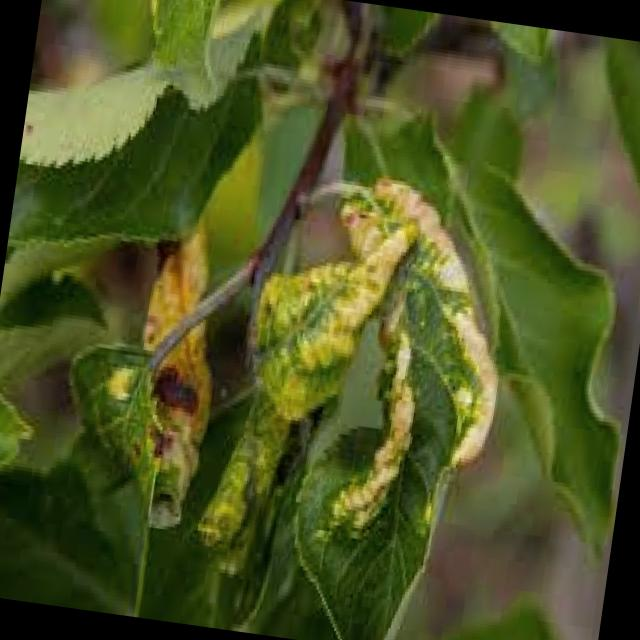aphid: (105, 381, 134, 408)
